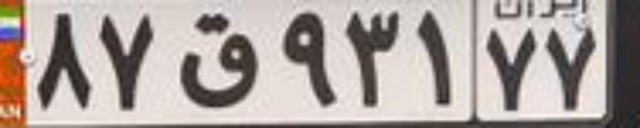1: (414, 9, 453, 106)
3: (345, 12, 401, 106)
7: (95, 13, 163, 110), (545, 26, 600, 113), (483, 26, 532, 111)
8: (33, 13, 97, 109)
9: (280, 13, 343, 106)
ghaf: (175, 12, 264, 108)
